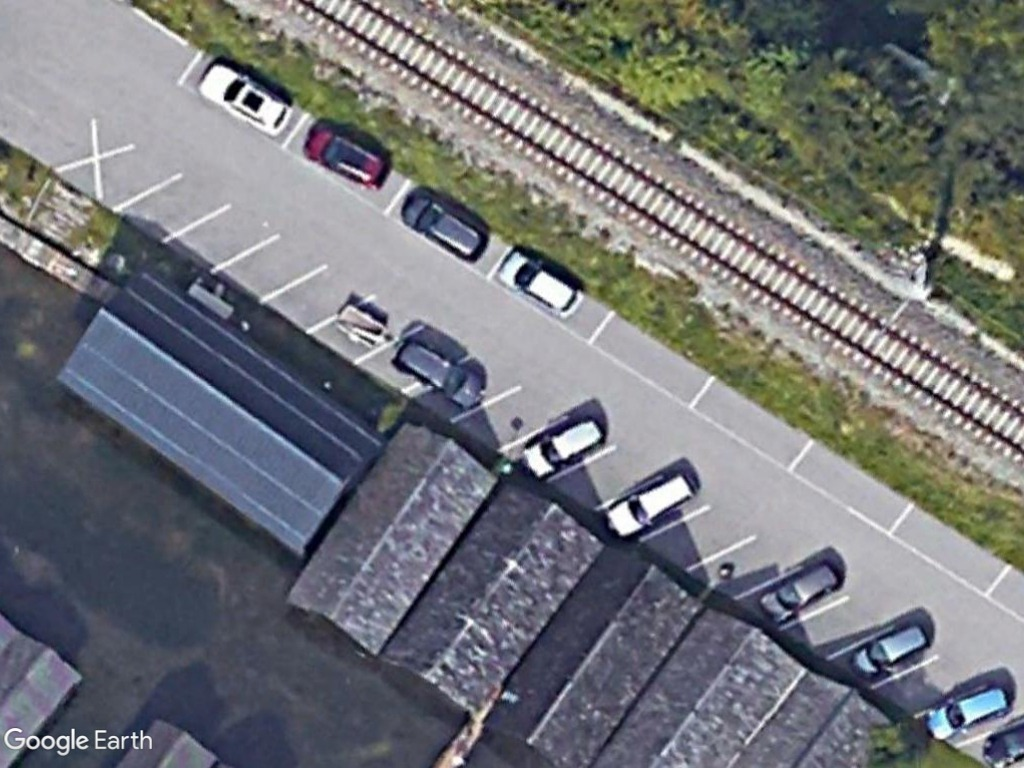car: (192, 56, 299, 141), (600, 464, 704, 544), (391, 332, 492, 413), (397, 189, 493, 267), (493, 248, 586, 321), (302, 119, 392, 192), (517, 416, 612, 483), (752, 560, 848, 626), (921, 678, 1021, 741), (847, 623, 934, 681)
